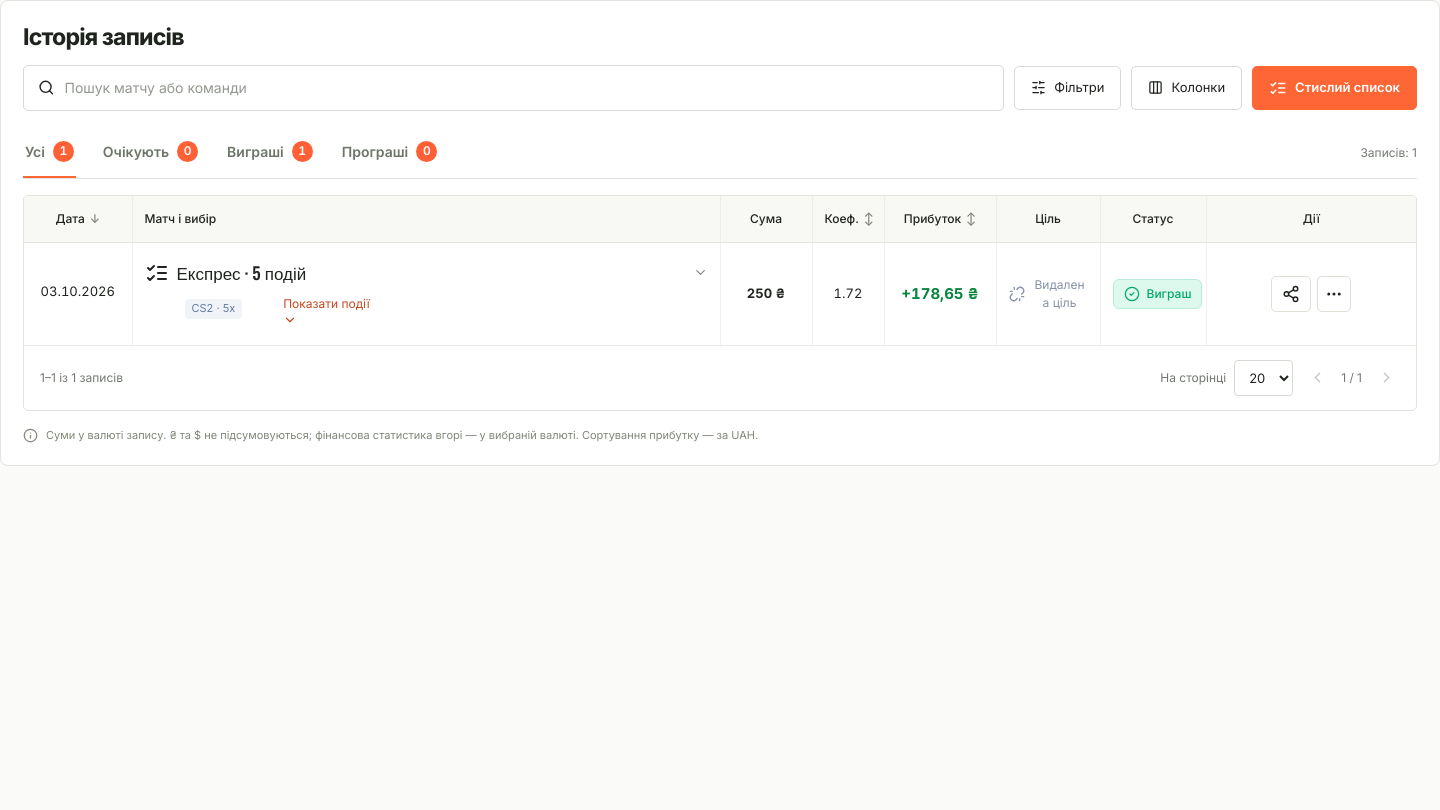
Test case: full-width journal › toggles details with the same disclosure and restores focus on close
Click the button "Експрес · 5 подій CS2 · 5x Показати події" at (212, 272), box left=144, top=261, right=708, bottom=327
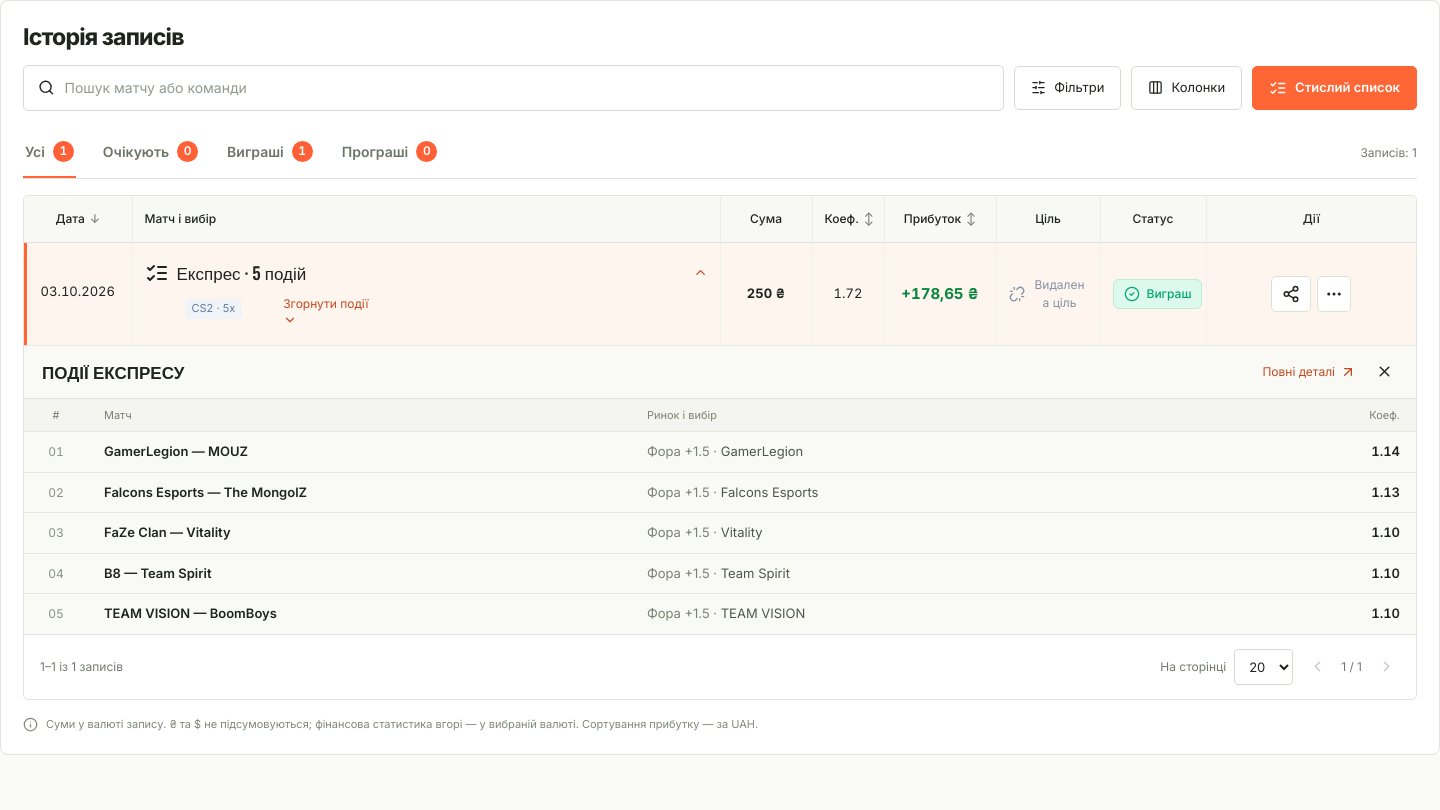
Click the button "Експрес · 5 подій CS2 · 5x Згорнути події" at (212, 272), box left=144, top=261, right=708, bottom=327
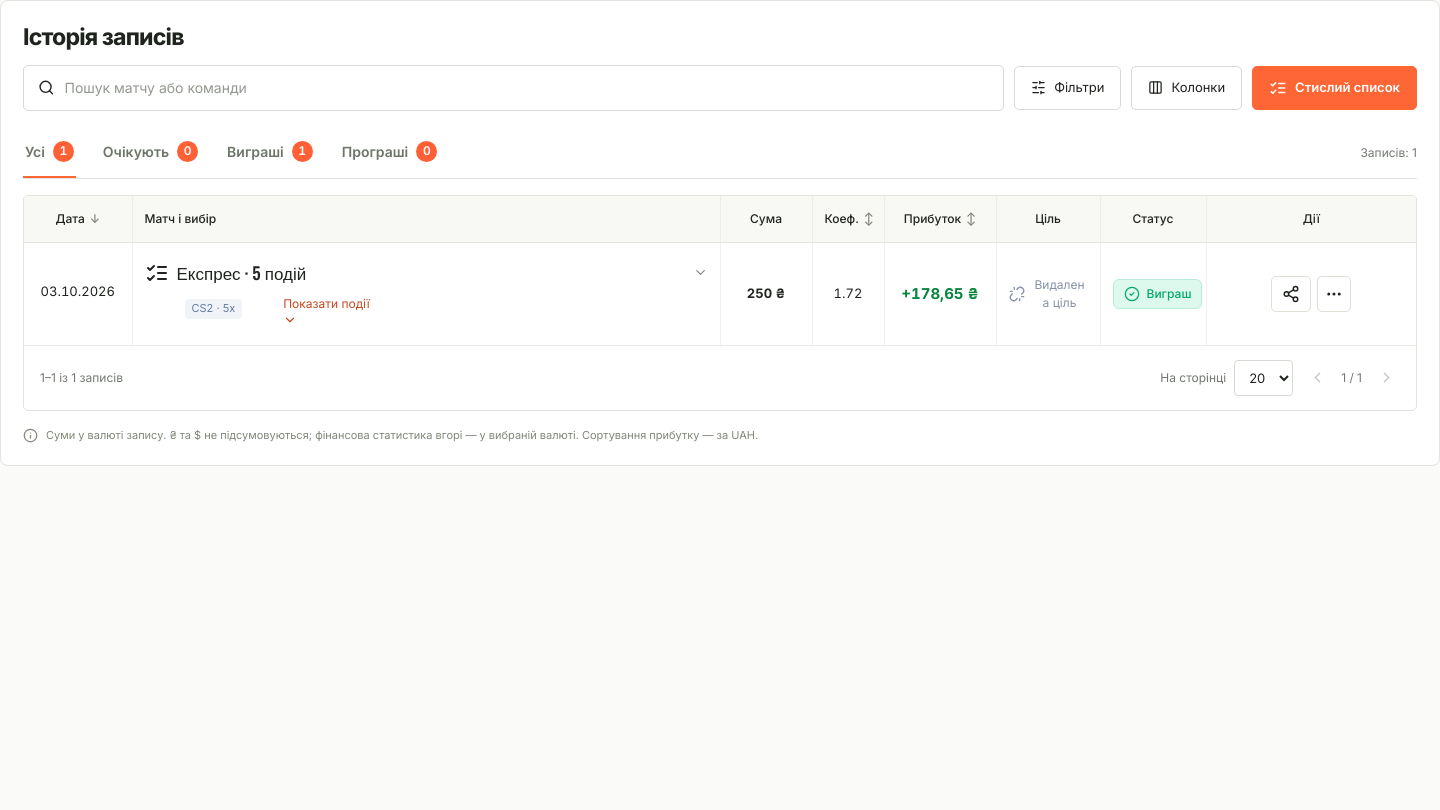
Click the button "Експрес · 5 подій CS2 · 5x Показати події" at (212, 272), box left=144, top=261, right=708, bottom=327
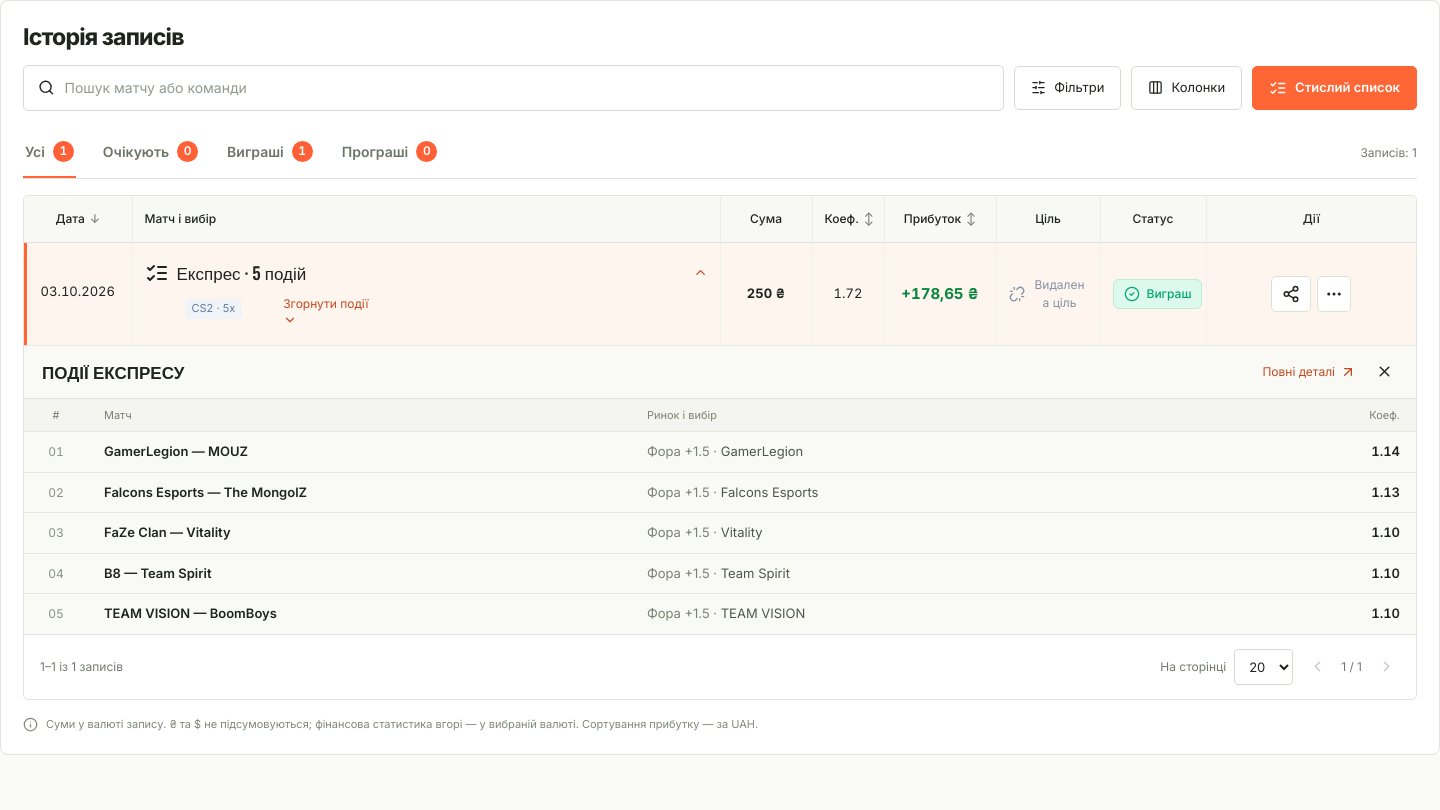
Click the button named "Закрити деталі" at (1384, 372), box left=1370, top=358, right=1398, bottom=386
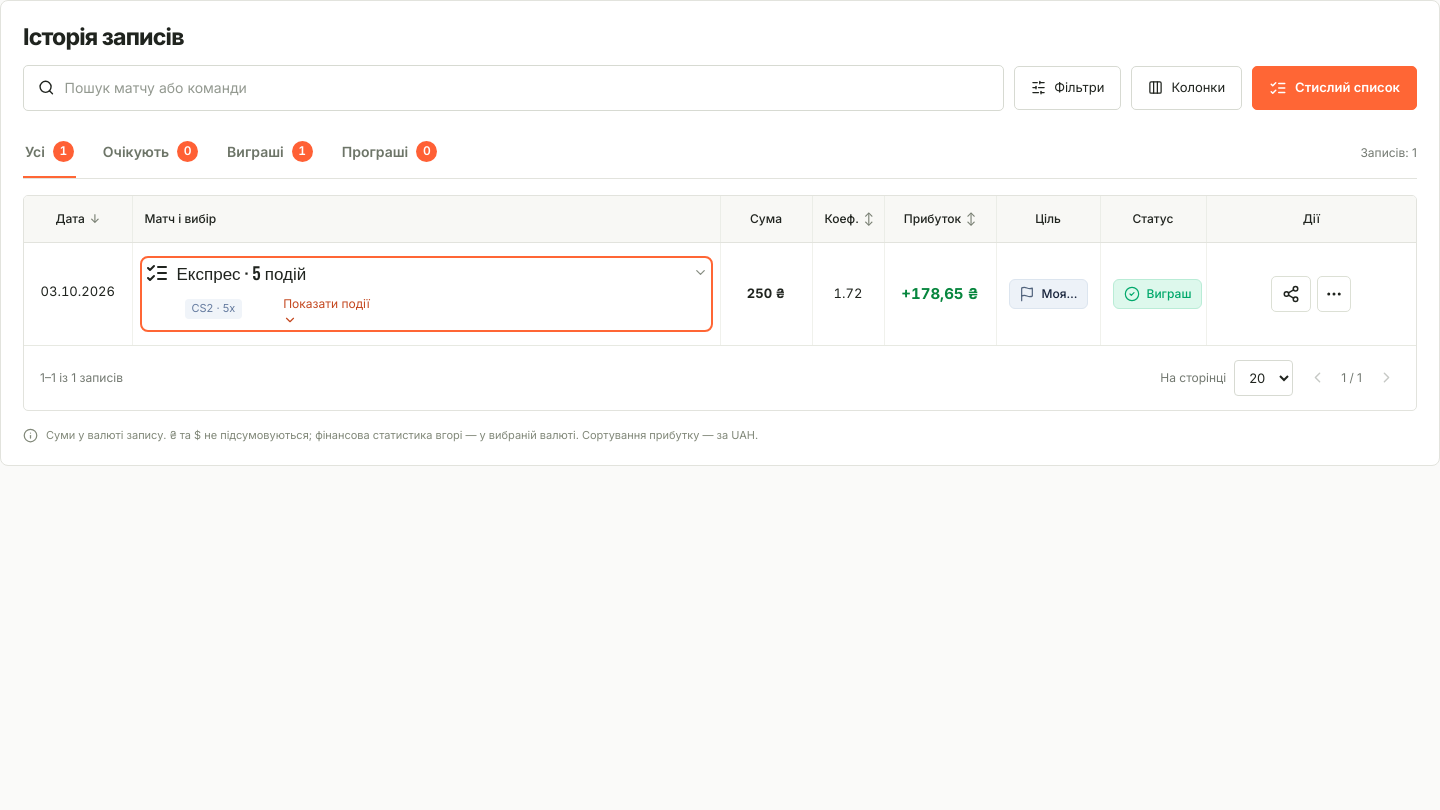
Check: the heading "Події експресу" is gone
